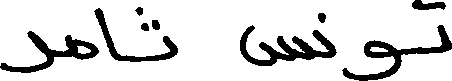ا: (95, 5, 115, 59)
ت: (409, 0, 450, 53)
ث: (133, 6, 178, 60)
ر: (0, 28, 54, 73)
س: (238, 23, 309, 67)
م: (65, 31, 96, 60)
ن: (312, 11, 334, 59)
و: (342, 37, 401, 79)
